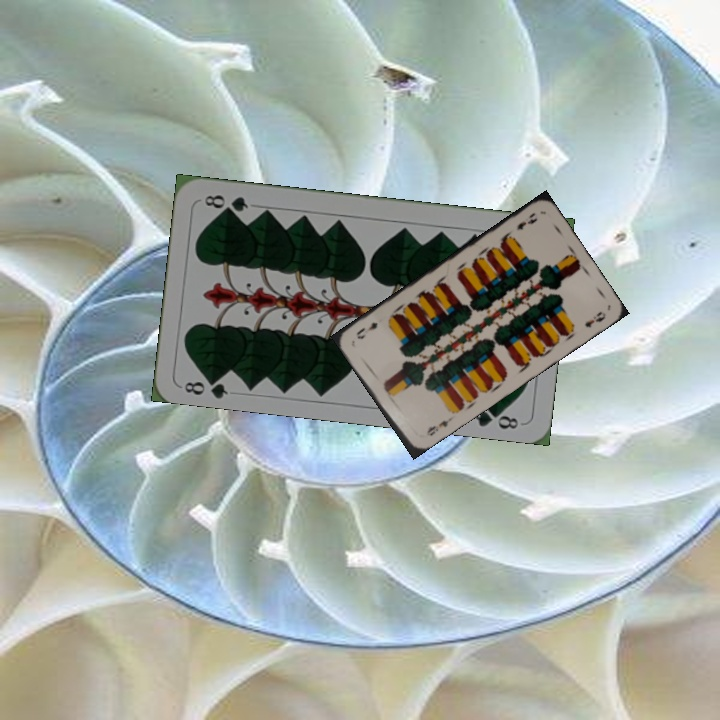E9: (422, 414, 454, 439), (512, 208, 540, 233)
G8: (180, 371, 231, 400)
